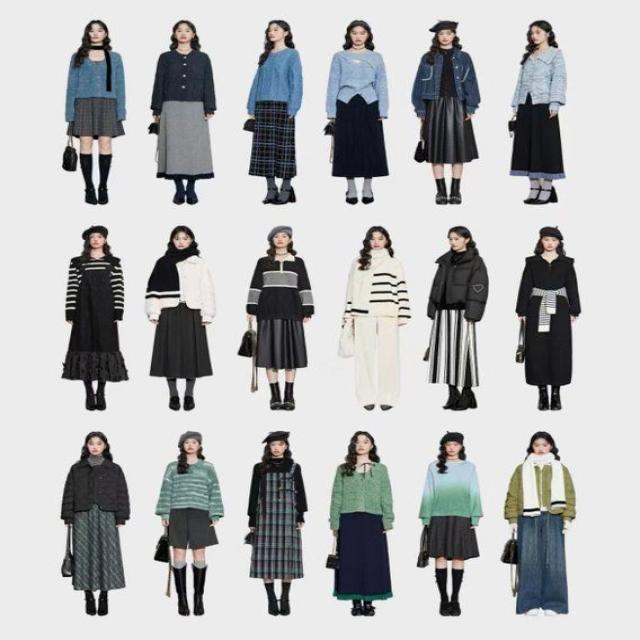person: (502, 430, 576, 616), (144, 225, 217, 410), (339, 225, 411, 410), (59, 431, 130, 616), (244, 225, 314, 410), (154, 431, 224, 616), (411, 20, 480, 204), (416, 431, 483, 617), (61, 225, 128, 410), (328, 430, 394, 617), (149, 20, 216, 204), (323, 20, 389, 204), (422, 226, 488, 410), (515, 226, 580, 410), (245, 430, 308, 616), (64, 19, 126, 204), (243, 19, 303, 204), (508, 20, 567, 204)
